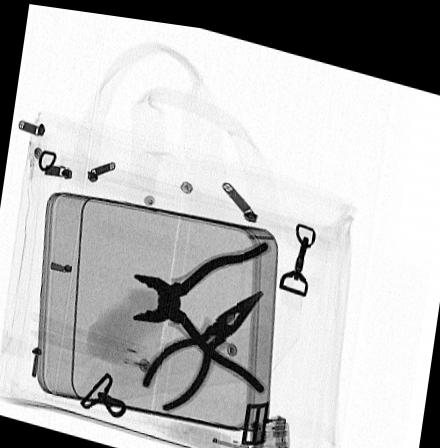Pliers: (127, 230, 272, 387), (139, 280, 267, 409)
